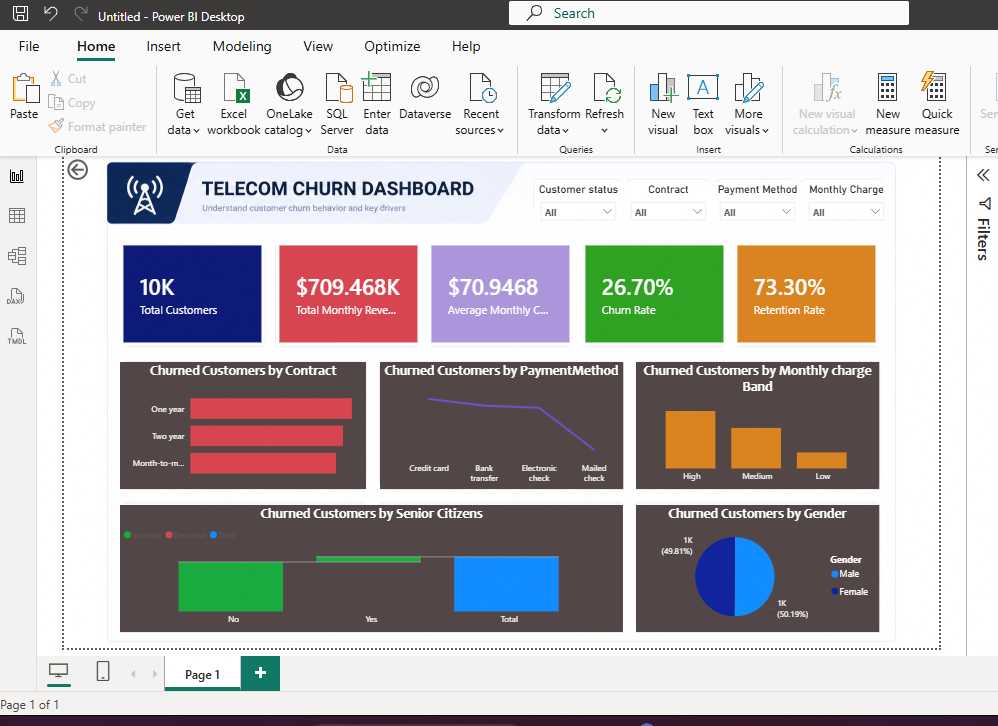

Layout of this report page (visuals, bound fields, positions):
{"tool":"powerbi","page":{"name":"Page 1","canvas":[1280,720],"ordinal":0},"visuals":[{"type":"image","box":[0,0,1280.5,720],"z":0},{"type":"cardVisual","fields":{"Data":["CountNonNull(Bank_Churn_Classification_Clean.CustomerID)"]},"box":[82,125.9,212.2,152.2],"z":1000},{"type":"cardVisual","fields":{"Data":["Sum(Bank_Churn_Classification_Clean.MonthlyCharges)"]},"box":[310.2,125.9,212.2,152.2],"z":2000},{"type":"cardVisual","fields":{"Data":["Avg(Bank_Churn_Classification_Clean.MonthlyCharges)"]},"box":[532.7,125.9,212.2,152.2],"z":3000},{"type":"cardVisual","fields":{"Data":["Bank_Churn_Classification_Clean.Churn Rate"]},"box":[758,125.9,212.2,152.2],"z":4000},{"type":"cardVisual","fields":{"Data":["Bank_Churn_Classification_Clean.Retention Rate"]},"box":[980.5,125.9,212.2,152.2],"z":5000},{"type":"clusteredBarChart","fields":{"Category":["Bank_Churn_Classification_Clean.Contract"],"Y":["Bank_Churn_Classification_Clean.Churned Customers"]},"box":[82,301.5,360,185.9],"z":6000},{"type":"lineChart","fields":{"Category":["Bank_Churn_Classification_Clean.PaymentMethod"],"Y":["Bank_Churn_Classification_Clean.Churned Customers"]},"box":[462.4,301.5,355.6,185.9],"z":7000},{"type":"clusteredColumnChart","fields":{"Category":["Bank_Churn_Classification_Clean.Monthly charge Band"],"Y":["Bank_Churn_Classification_Clean.Churned Customers"]},"box":[837.1,301.5,355.6,185.9],"z":8000},{"type":"waterfallChart","fields":{"Category":["Bank_Churn_Classification_Clean.Senior Citizens"],"Y":["Bank_Churn_Classification_Clean.Churned Customers"]},"box":[82,510.7,736.1,185.9],"z":8001},{"type":"pieChart","fields":{"Y":["Bank_Churn_Classification_Clean.Churned Customers"],"Category":["Bank_Churn_Classification_Clean.Gender"]},"box":[837.1,510.7,355.6,185.9],"z":8002},{"type":"slicer","title":"Customer status","fields":{"Values":["Bank_Churn_Classification_Clean.Customer Status"]},"box":[687.8,39.5,130.2,58.5],"z":8003},{"type":"actionButton","box":[0,0,100,40],"z":8004},{"type":"slicer","title":"Payment Method","fields":{"Values":["Bank_Churn_Classification_Clean.PaymentMethod"]},"box":[949.8,39.5,130.2,58.5],"z":8006},{"type":"slicer","title":"Contract","fields":{"Values":["Bank_Churn_Classification_Clean.Contract"]},"box":[819.5,39.5,130.2,58.5],"z":8008},{"type":"slicer","title":"Monthly Charge","fields":{"Values":["Bank_Churn_Classification_Clean.Monthly charge Band"]},"box":[1080,39.5,130.2,58.5],"z":8009}]}

Visuals, with their boxes on the page's 1280x720 design canvas (x1, y1, x2, y2). These are canvas units, not pixel positions in the 998x726 screenshot, which may show the page scaled, cropped or inside an application window:
image: <box>0,0,1280,720</box>
cardVisual - CountNonNull(Bank_Churn_Classification_Clean.CustomerID): <box>82,126,294,278</box>
cardVisual - Sum(Bank_Churn_Classification_Clean.MonthlyCharges): <box>310,126,522,278</box>
cardVisual - Avg(Bank_Churn_Classification_Clean.MonthlyCharges): <box>533,126,745,278</box>
cardVisual - Bank_Churn_Classification_Clean.Churn Rate: <box>758,126,970,278</box>
cardVisual - Bank_Churn_Classification_Clean.Retention Rate: <box>980,126,1193,278</box>
clusteredBarChart - Bank_Churn_Classification_Clean.Contract x Bank_Churn_Classification_Clean.Churned Customers: <box>82,302,442,487</box>
lineChart - Bank_Churn_Classification_Clean.PaymentMethod x Bank_Churn_Classification_Clean.Churned Customers: <box>462,302,818,487</box>
clusteredColumnChart - Bank_Churn_Classification_Clean.Monthly charge Band x Bank_Churn_Classification_Clean.Churned Customers: <box>837,302,1193,487</box>
waterfallChart - Bank_Churn_Classification_Clean.Senior Citizens x Bank_Churn_Classification_Clean.Churned Customers: <box>82,511,818,697</box>
pieChart - Bank_Churn_Classification_Clean.Churned Customers x Bank_Churn_Classification_Clean.Gender: <box>837,511,1193,697</box>
"Customer status" slicer: <box>688,40,818,98</box>
actionButton: <box>0,0,100,40</box>
"Payment Method" slicer: <box>950,40,1080,98</box>
"Contract" slicer: <box>820,40,950,98</box>
"Monthly Charge" slicer: <box>1080,40,1210,98</box>
